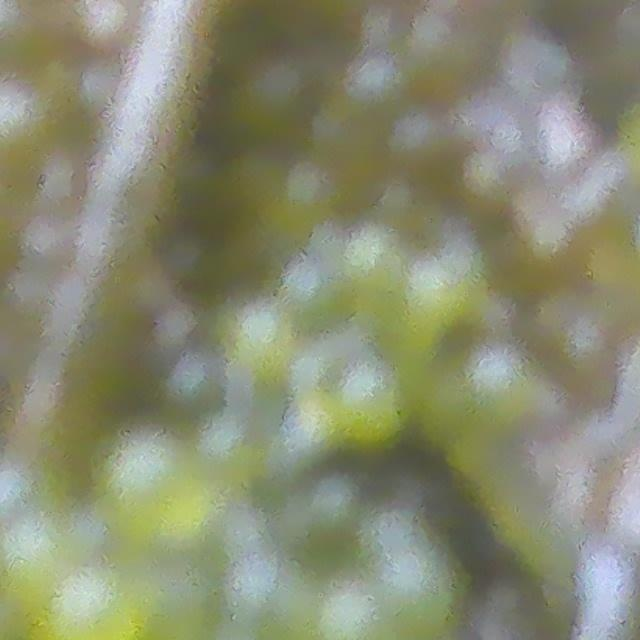SeaGrape: (88, 434, 212, 555), (31, 564, 144, 640), (220, 301, 300, 382), (310, 586, 386, 640)
